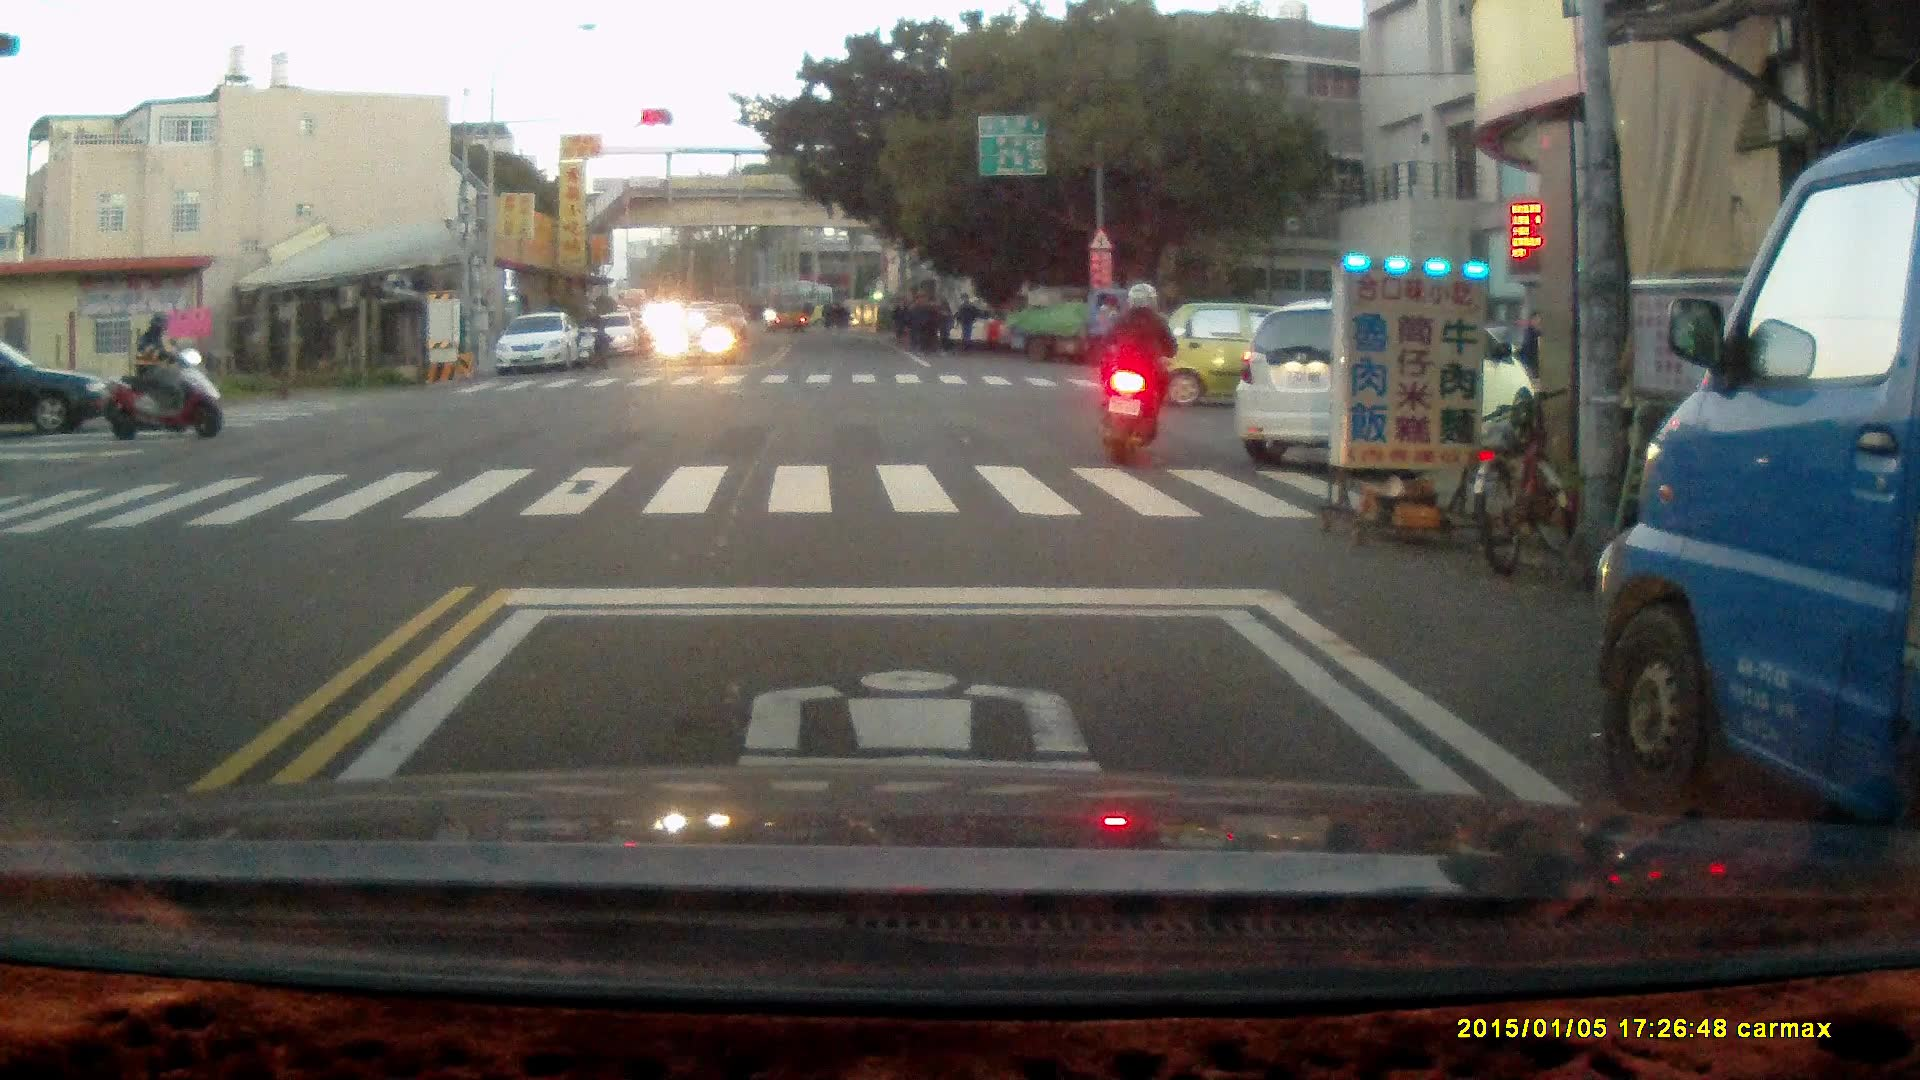pedestrian: (1519, 308, 1551, 386)
rider: (1094, 279, 1186, 468), (101, 308, 227, 438), (576, 299, 608, 370)
vehicle: (1598, 132, 1920, 842), (1233, 296, 1533, 459), (1146, 299, 1400, 413), (1002, 284, 1179, 367), (1, 336, 116, 435), (493, 313, 586, 377), (592, 311, 642, 360)
